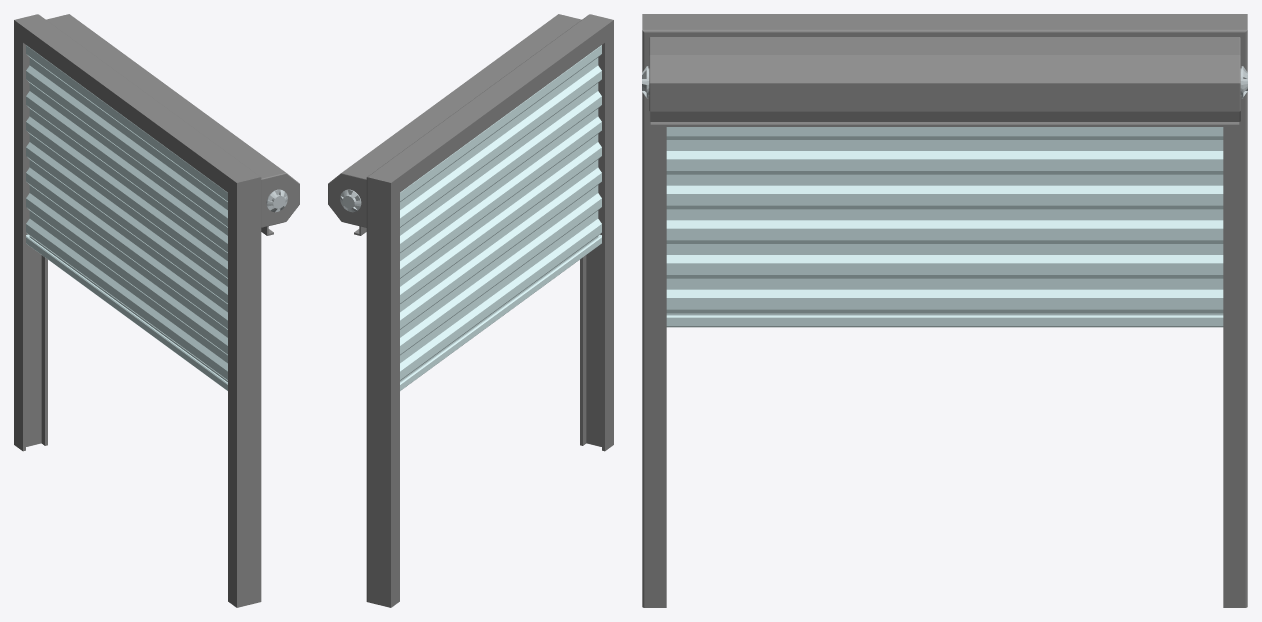
The model's file is rolovaci-dvere.fbx.
3 views of the same model, side by side, from view 1: azimuth 30°, elevation 25°; view 2: azimuth 150°, elevation 25°; view 3: azimuth 270°, elevation 25° (orthographic). The views are drawn at different scales.
Visible parts, largest first — view 1: Roleta, Dvere, Kryt; view 2: Roleta, Dvere, Kryt; view 3: Roleta, Kryt, Dvere.
Part boxes in pixels (x1,y1,x2,y2): Roleta: [26, 45, 227, 390]; Dvere: [14, 14, 261, 607]; Kryt: [46, 14, 299, 235]; Roleta: [400, 45, 601, 390]; Dvere: [366, 14, 613, 607]; Kryt: [328, 14, 581, 235]; Roleta: [666, 127, 1223, 327]; Kryt: [649, 37, 1240, 126]; Dvere: [642, 14, 1247, 607].
Bounding box in the file's own units: 39.34 × 242 × 230.
